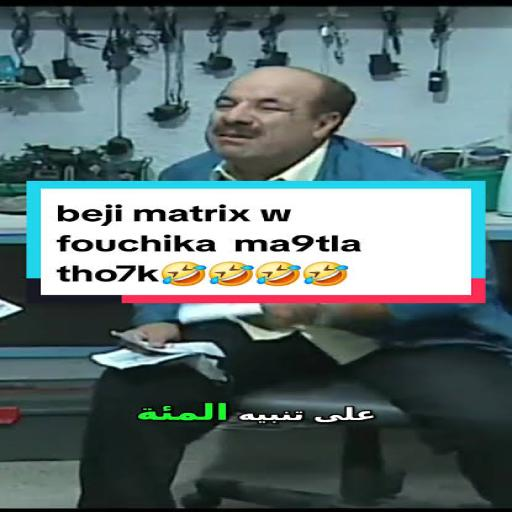beji_matrix: (209, 67, 354, 177)
